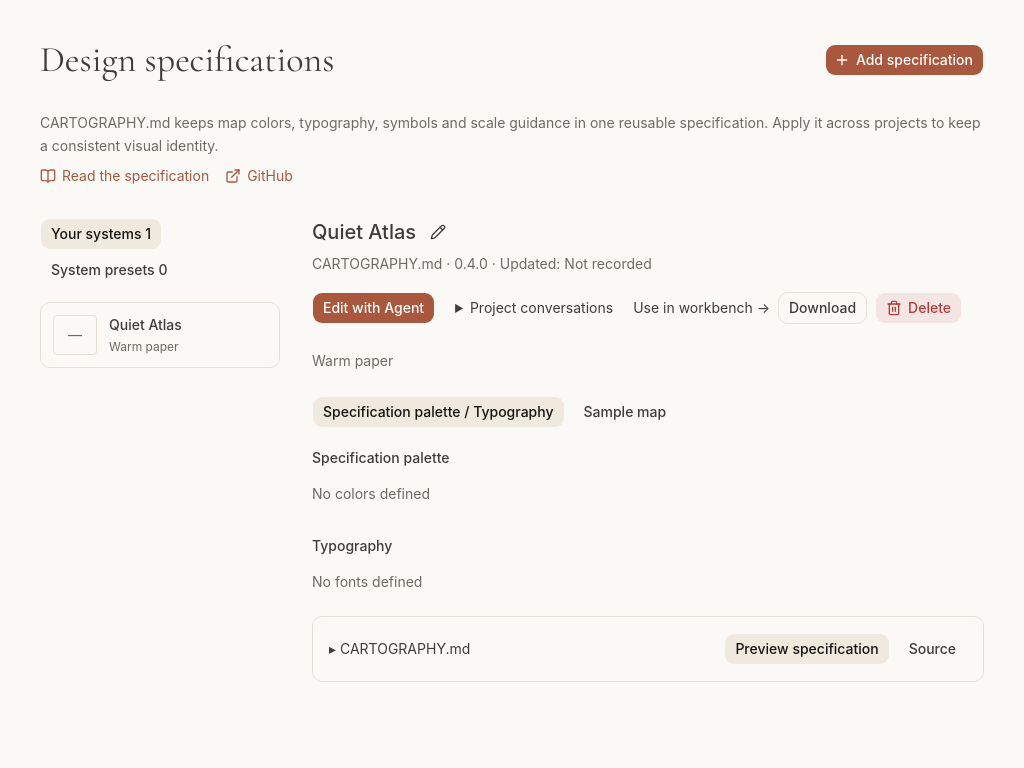
Test: opens the requested specification preview from the conversation deep link
The image size is (1024, 768).
Click the button "Preview specification": (807, 649) [724,633,890,665]
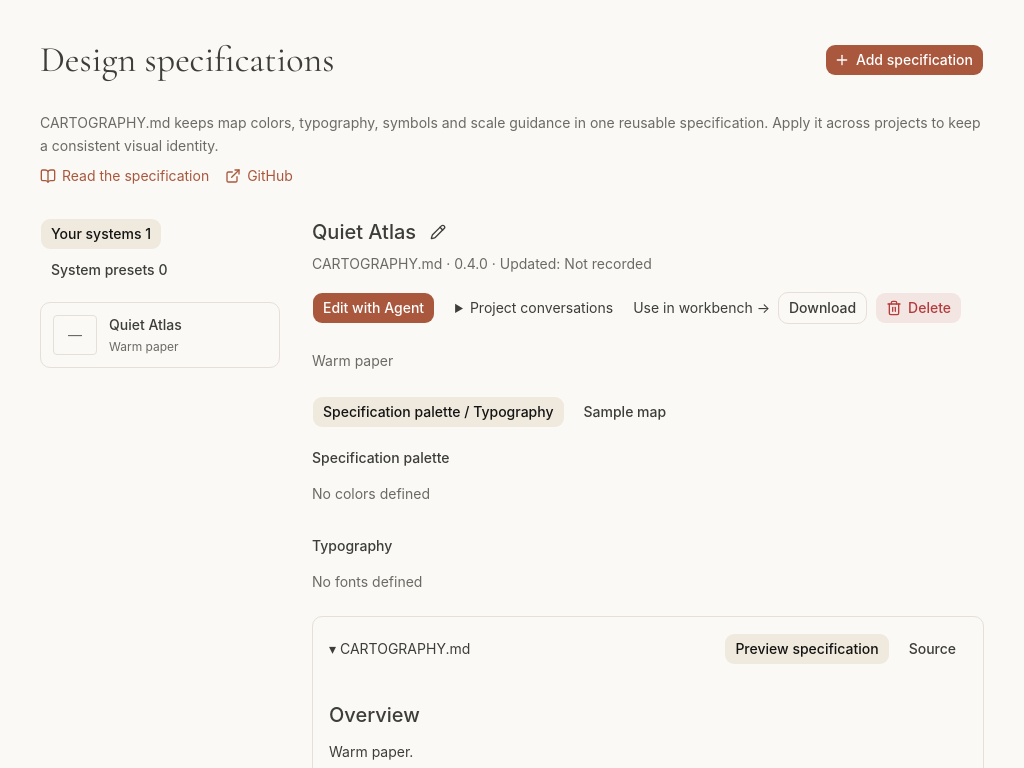
expect the element named "Preview specification" shows "Warm paper": met, box [329,743,413,760]
